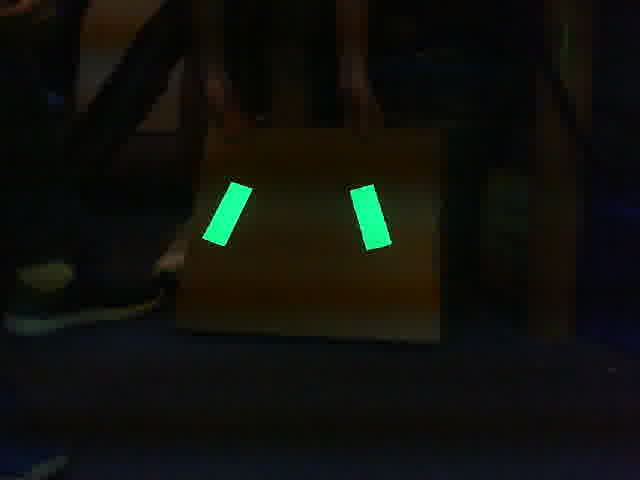target: (199, 179, 395, 252)
